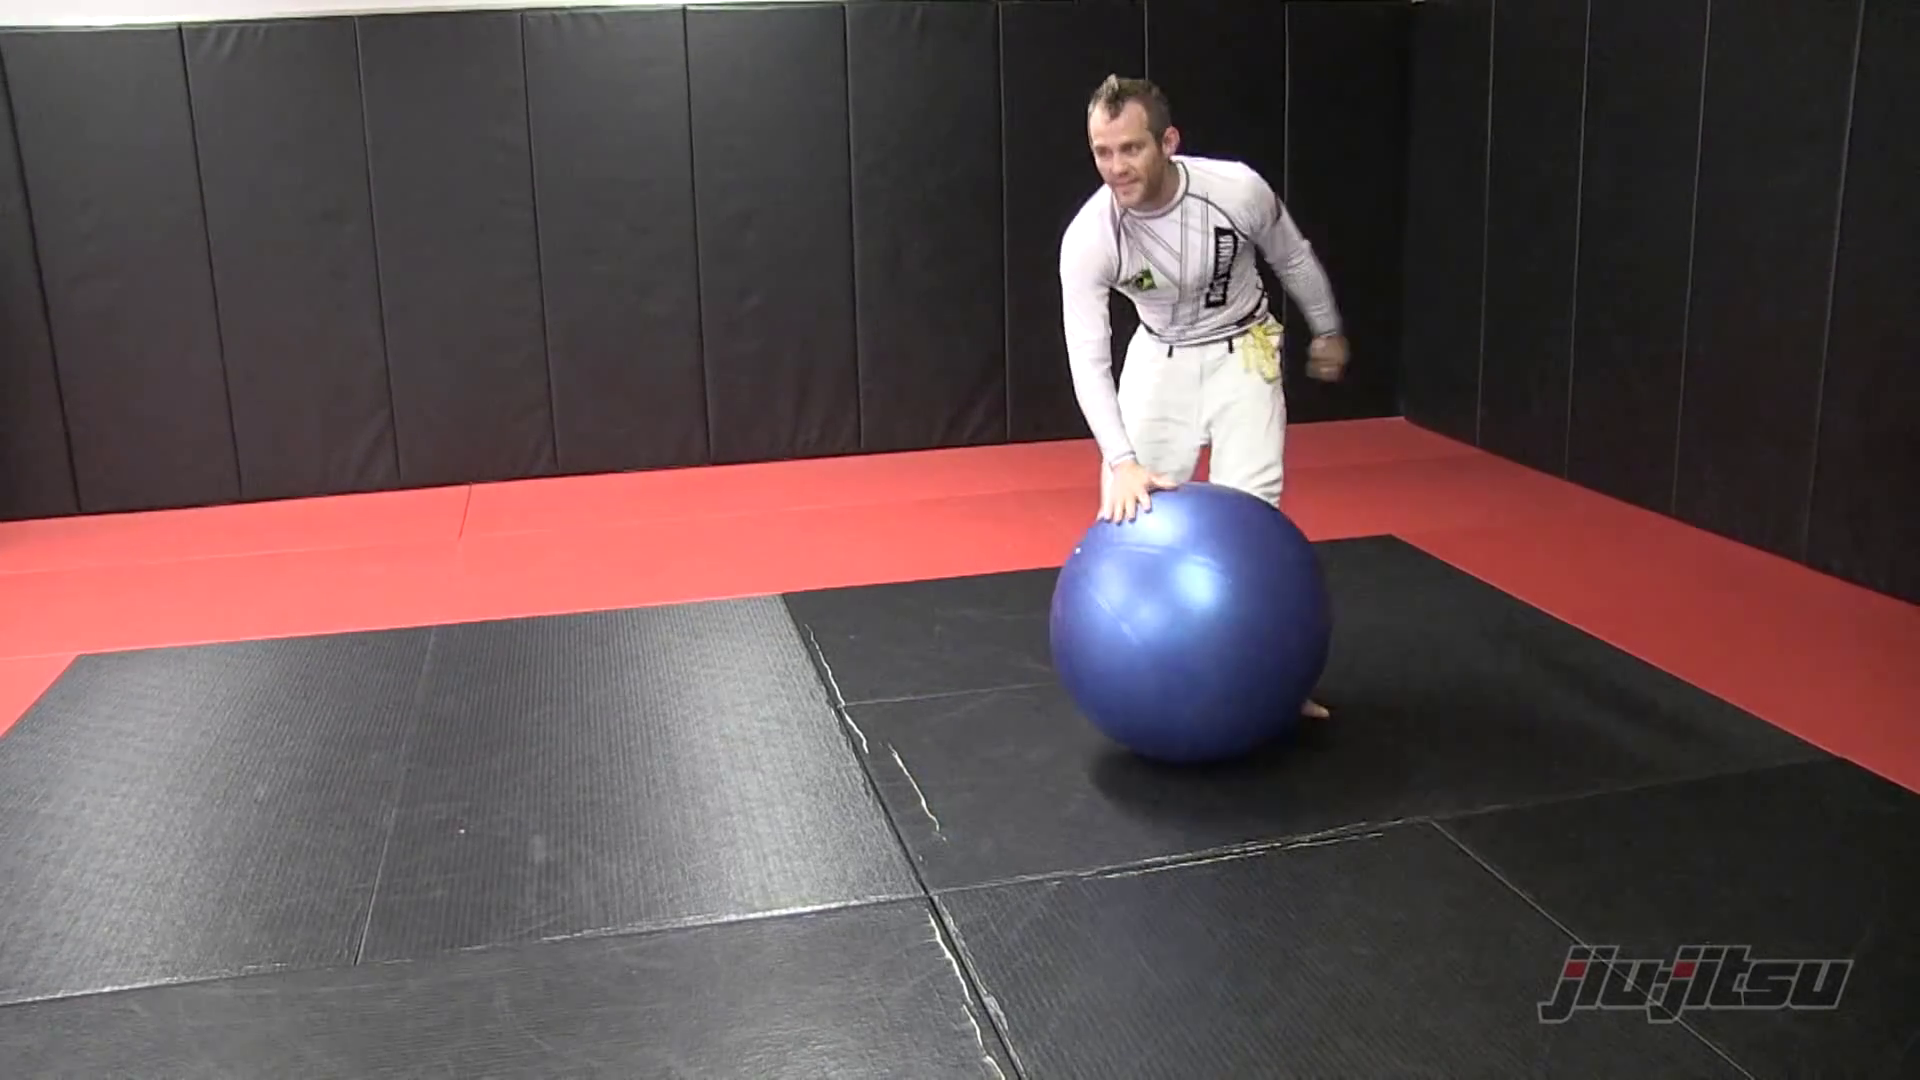yogaball: (1035, 473, 1342, 781)
